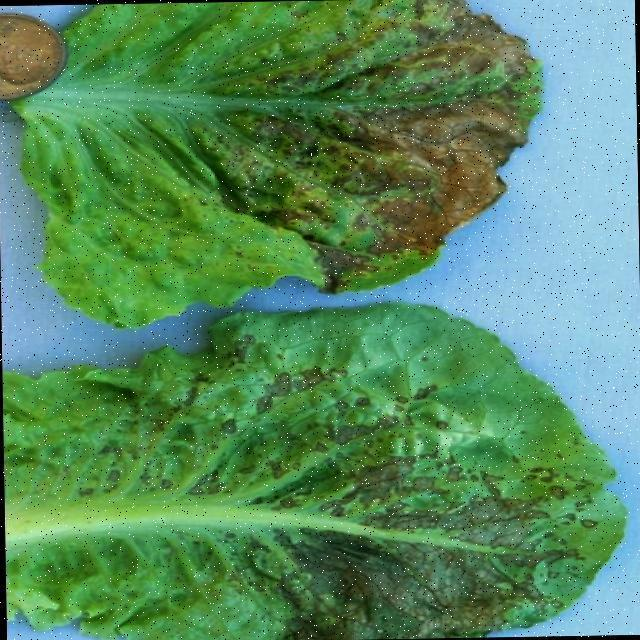Healthy: (73, 368, 531, 632), (147, 4, 435, 248)
